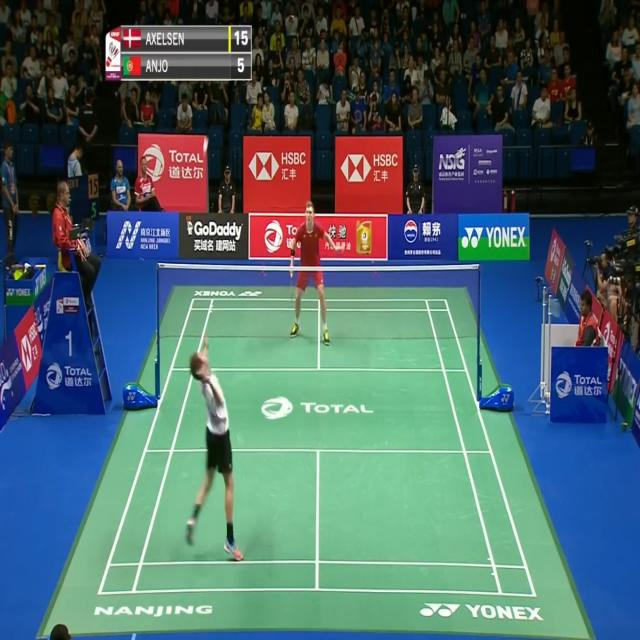Player1: (181, 328, 251, 568)
Player2: (288, 192, 341, 357)
